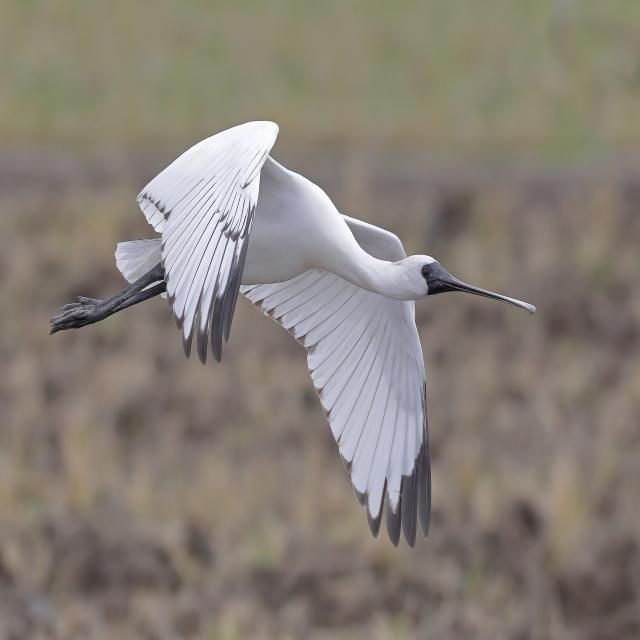Black-faced spoonbill: (52, 122, 535, 547)
